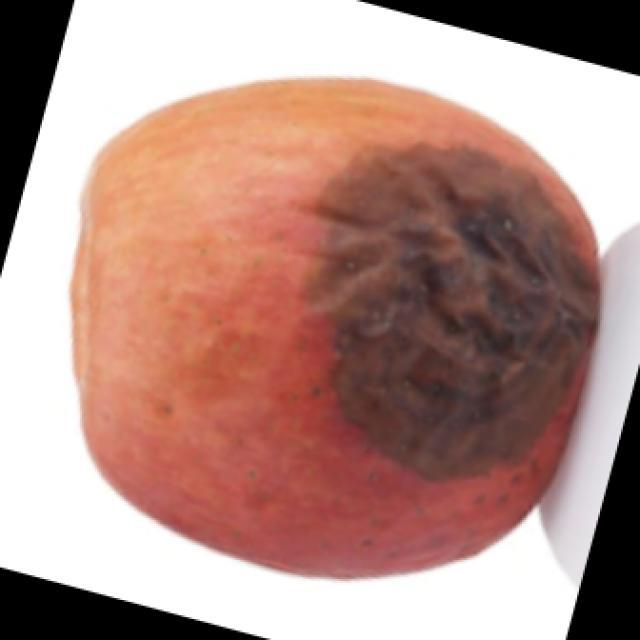Rotten: (67, 72, 598, 588)
